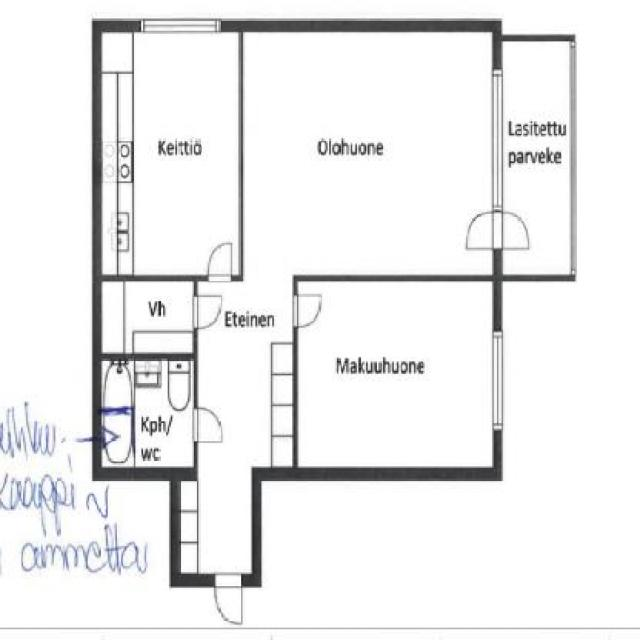door: (463, 212, 529, 260), (212, 572, 245, 626), (192, 406, 223, 446), (206, 240, 234, 282), (294, 295, 323, 331), (192, 295, 223, 328)
window: (492, 69, 503, 209), (138, 18, 218, 34), (494, 334, 504, 432)
zone: (180, 34, 491, 574), (298, 280, 492, 469), (102, 32, 238, 276), (503, 41, 568, 274), (100, 360, 192, 468), (101, 280, 192, 357)
